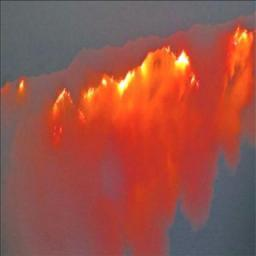Large fire: (12, 30, 256, 256)
